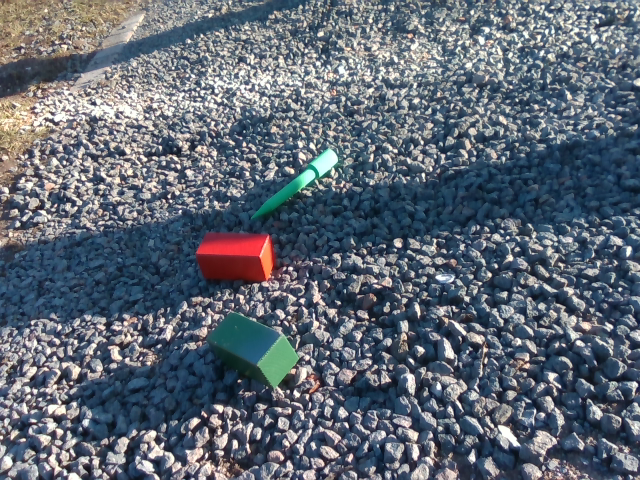Probe: (252, 141, 345, 224)
